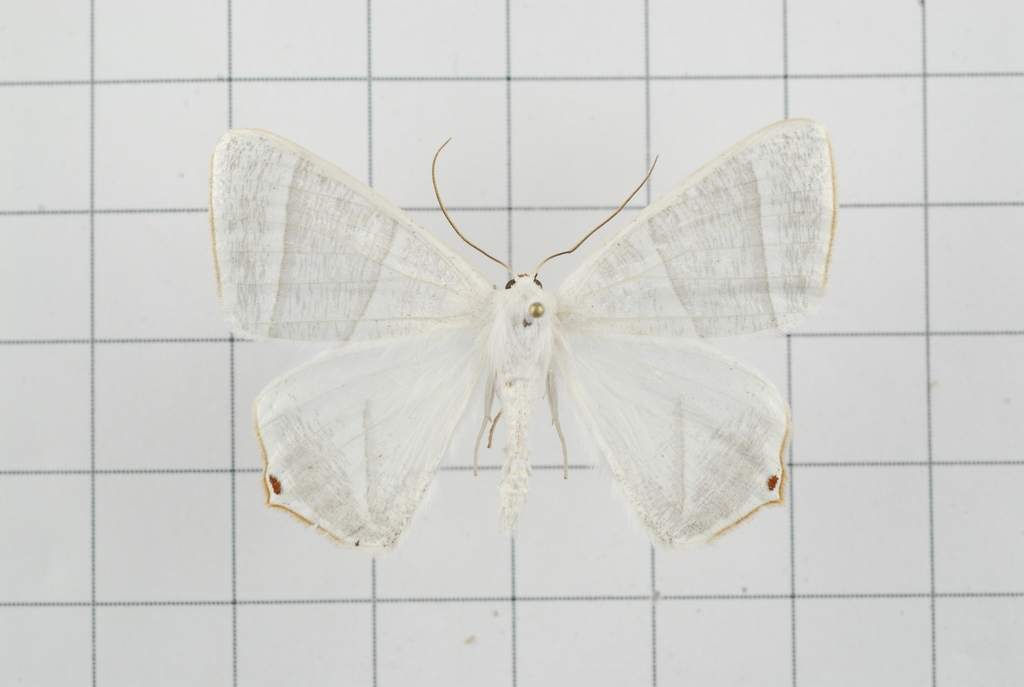Butterfly: (189, 110, 847, 559)
